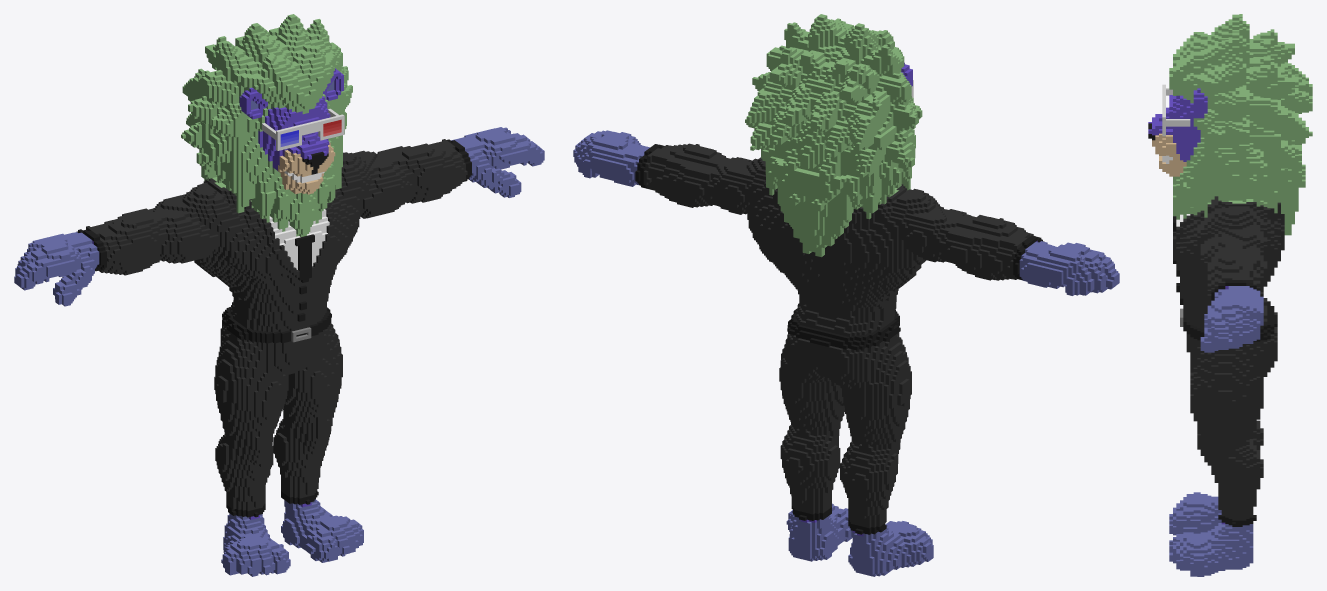
Rendered from 313-OOgauEyG.fbx.
The picture shows the model from 3 angles, left to right: view 1: azimuth 30°, elevation 25°; view 2: azimuth 150°, elevation 25°; view 3: azimuth 270°, elevation 25°; orthographic projection. The views are drawn at different scales.
Visible parts, largest first — view 1: big_smile; view 2: big_smile; view 3: big_smile.
Boxes of the visible parts, x1,y1,x2,y2 form: big_smile: (14, 14, 544, 576); big_smile: (573, 14, 1119, 576); big_smile: (1148, 14, 1312, 576).
Size of the model in its own units: 17.2 by 16.5 by 4.7.
Materials: 5 (5 with a texture image).
